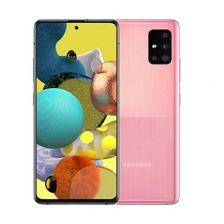phone: (90, 13, 185, 207), (29, 16, 121, 208)
